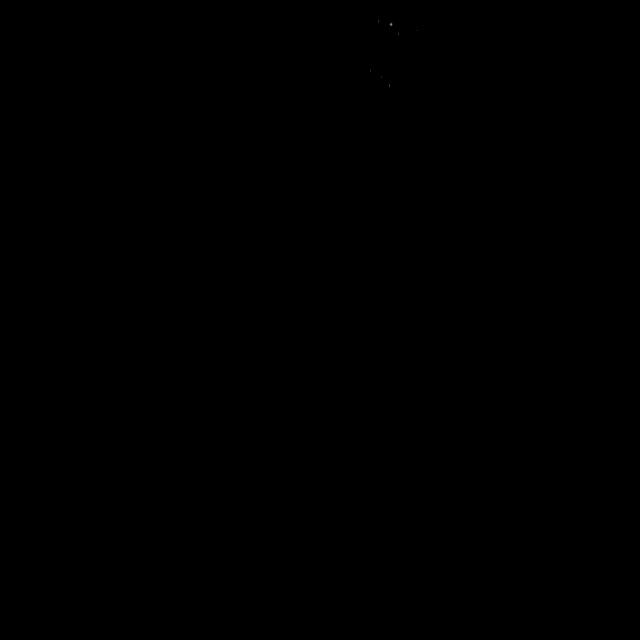medium_debris: (352, 0, 454, 114)
